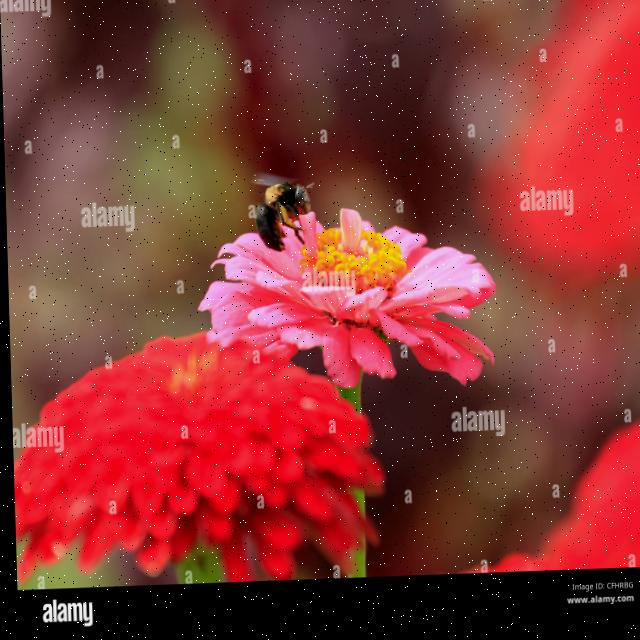Apis-mellifera-scutellata: (242, 163, 332, 259)
